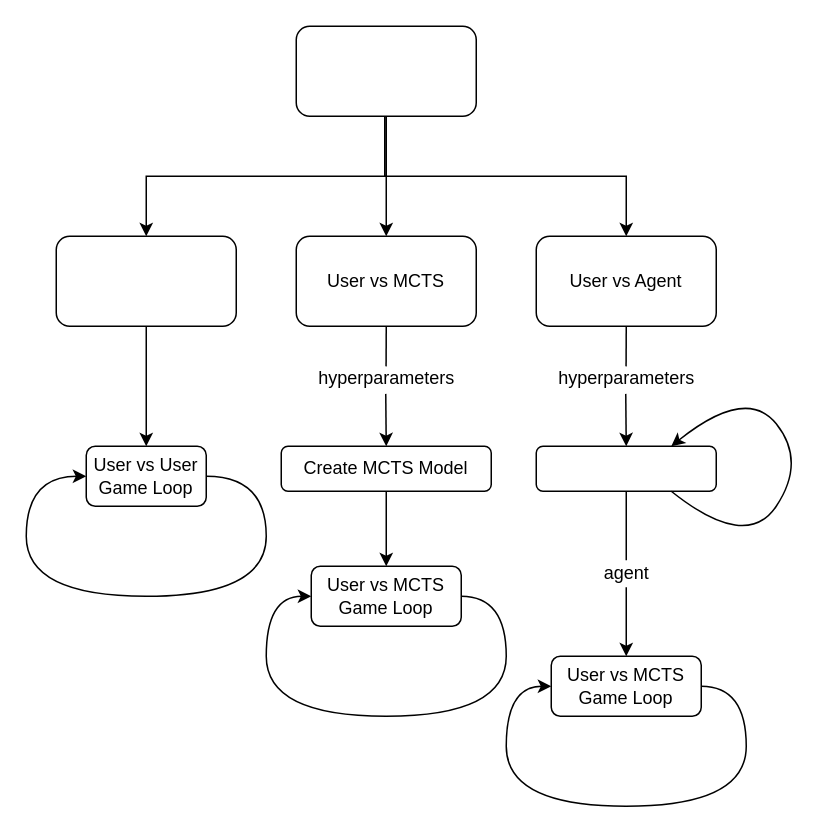
This 818x833 diagram has some shape labels left out. The centre of each missing label's shape, as x and y in pixels:
Load Agent File: (x=625, y=468)
Main Menu: (x=385, y=70)
User vs User: (x=145, y=280)
